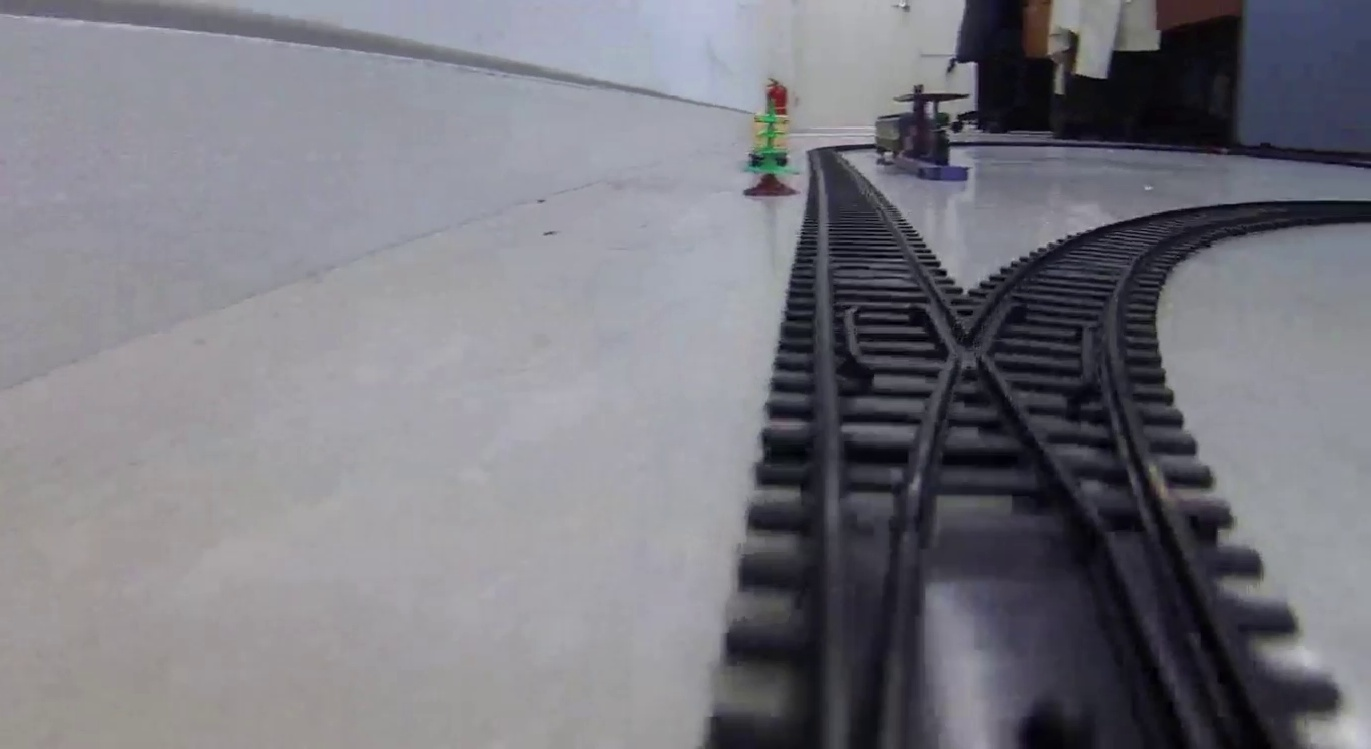tree: (742, 100, 801, 196)
